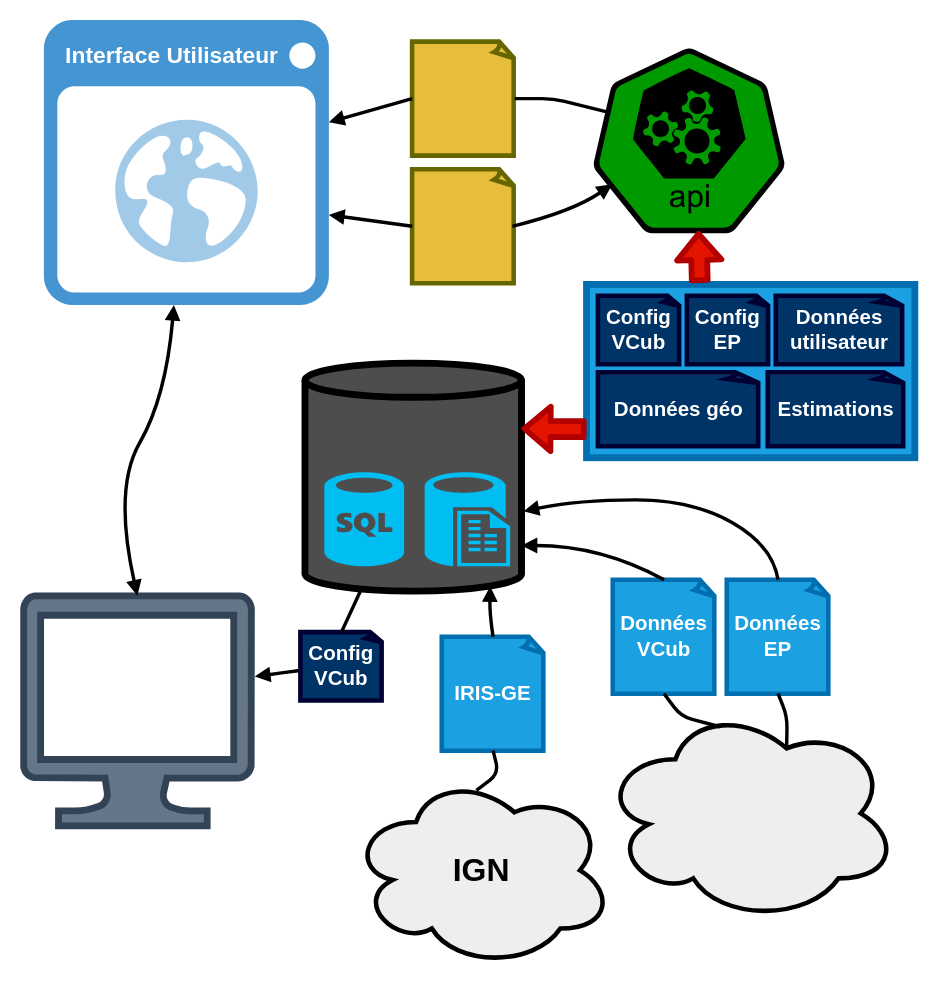
Some shapes in this 937 by 990 pixel diagram are drawn without their labels. The box of each missing label's shape, as (x1, y1, x2, y2) in pixels:
BDD serveur: (301, 359, 524, 594)
JSON GeoJSON: (409, 166, 516, 285)
Leaflet PNG: (409, 39, 516, 157)
Opendata Bordeaux Métropole: (598, 702, 899, 923)
Utilisateur: (19, 592, 254, 829)
